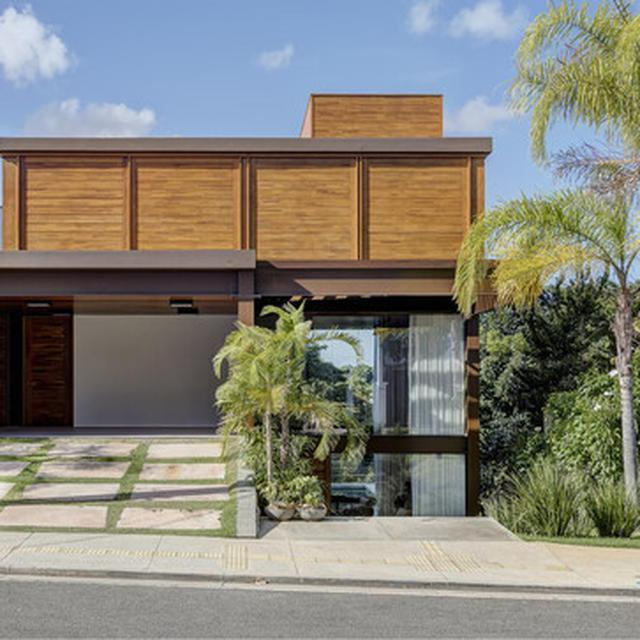building: (0, 96, 481, 517)
